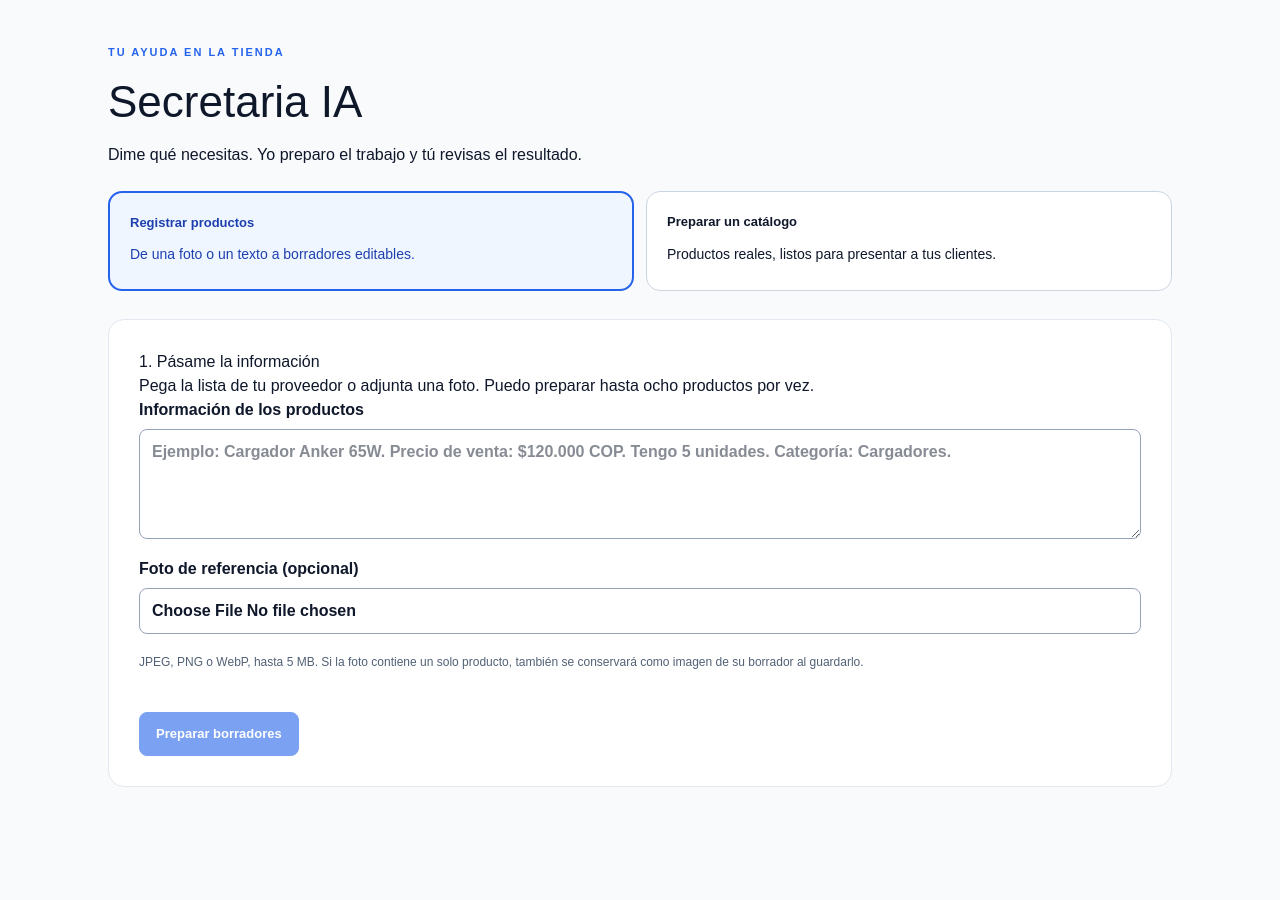
Test: shows preparation errors without claiming that products were saved
Type "Cargador" into the text box labelled "Información de los productos". click: (640, 484)
box: [139, 428, 1141, 538]
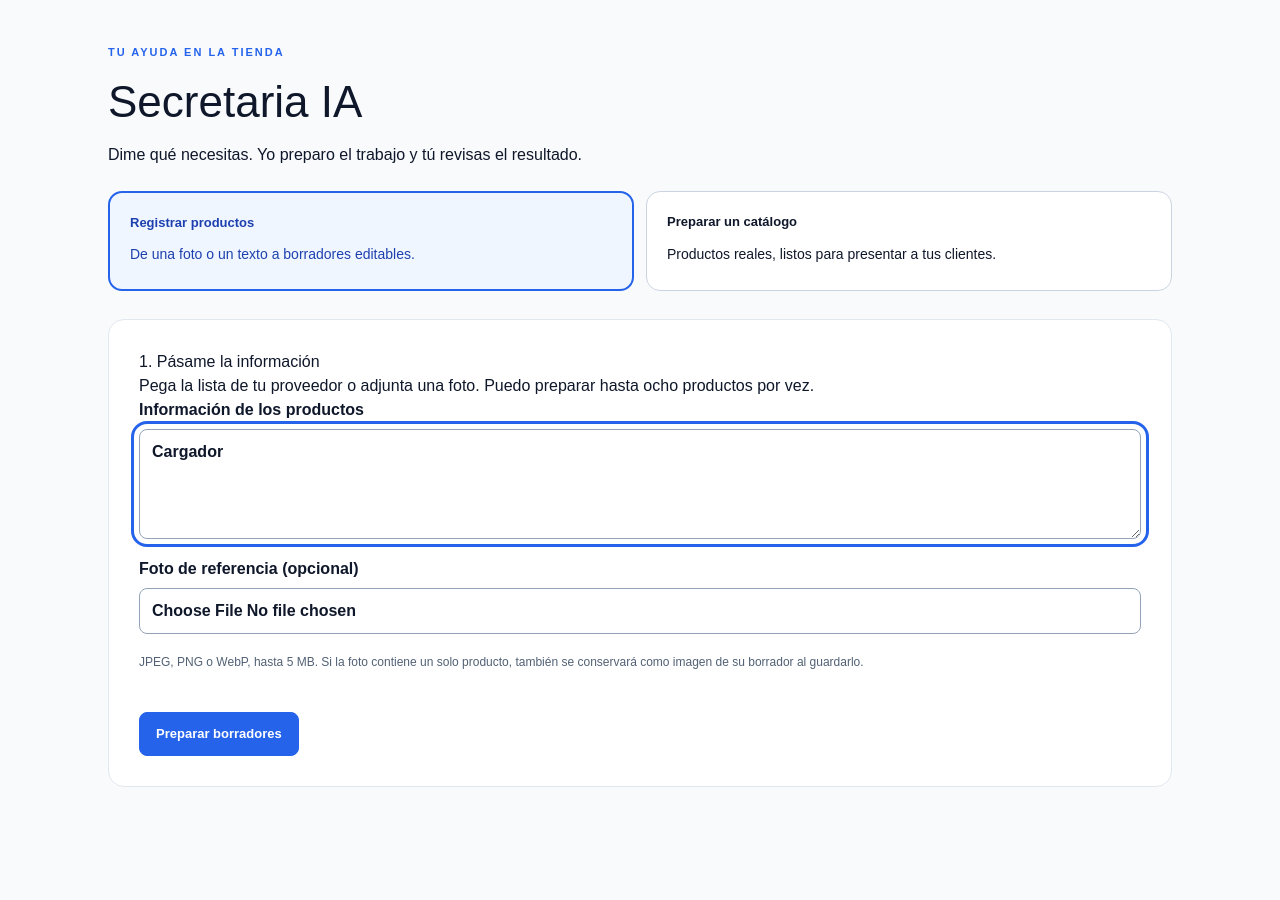
Click the button "Preparar borradores". click: (219, 734)
box: [139, 712, 299, 756]
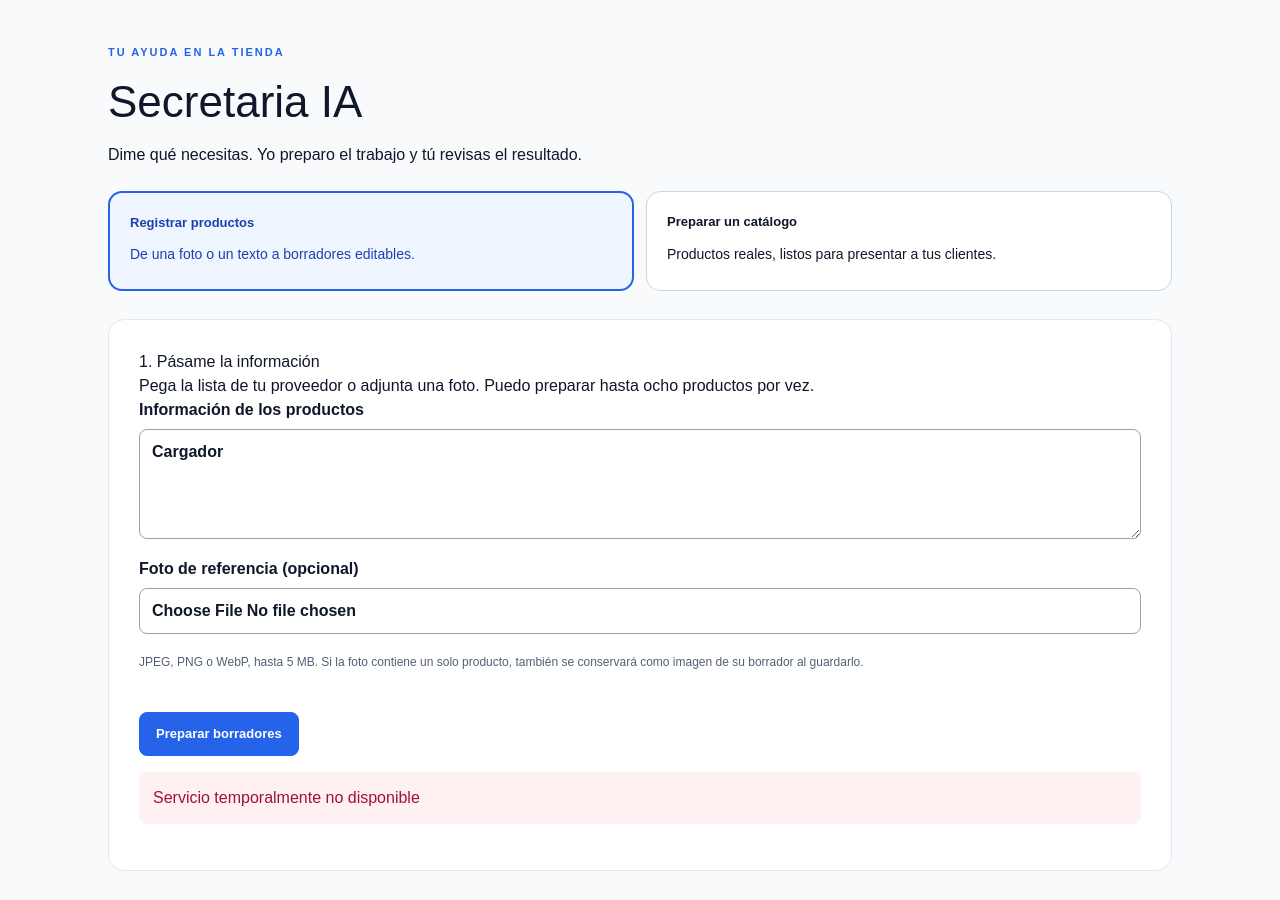
Expected: the message reads "Servicio temporalmente no disponible", [153, 789, 420, 806]
